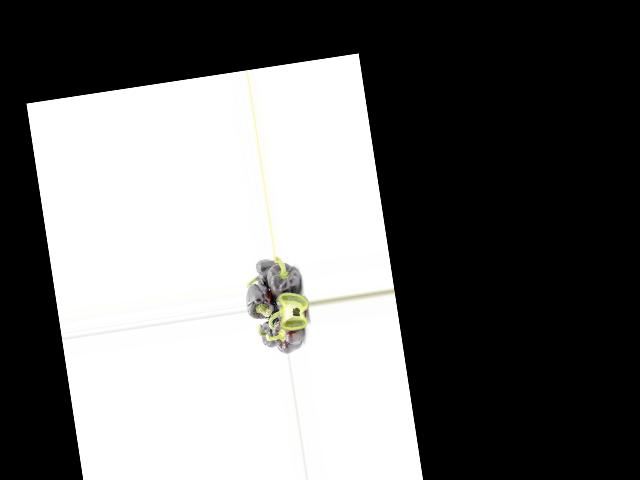bell_pepper: (269, 310, 305, 354)
